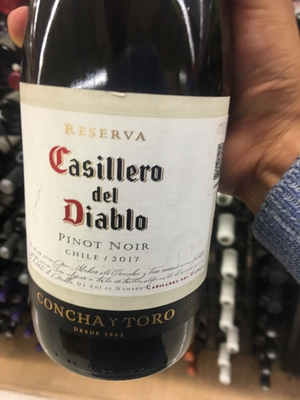casillero del diablo pinot noir: (18, 21, 233, 375)
